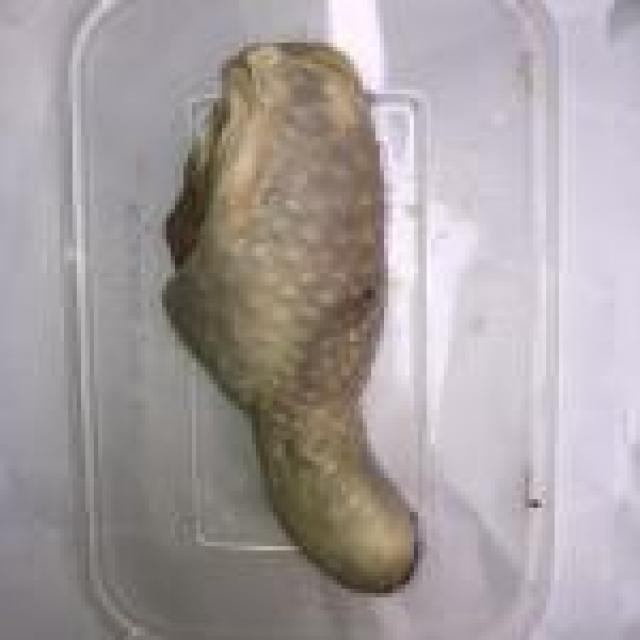leg: (157, 29, 426, 582)
